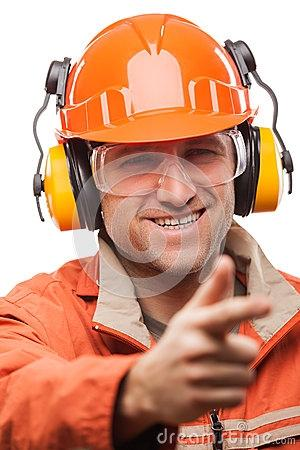helmet: (53, 12, 257, 148)
wear: (0, 268, 300, 450)
